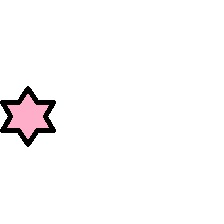star: (1, 86, 55, 146)
